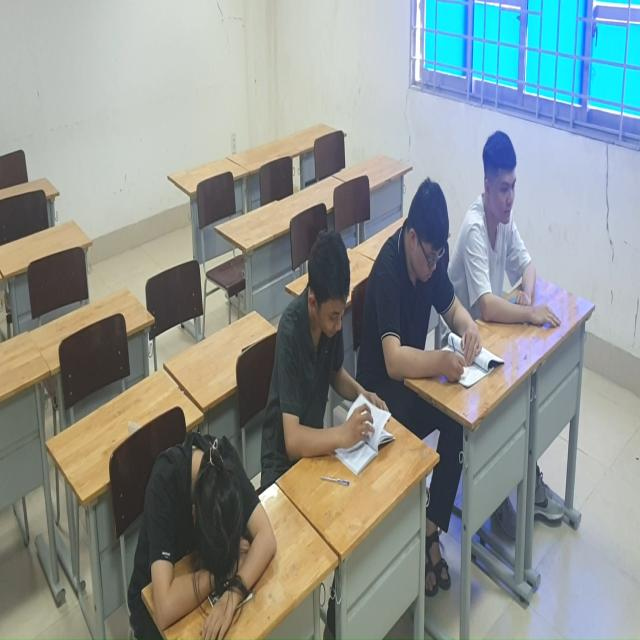read: (270, 219, 398, 470), (373, 178, 485, 425), (463, 128, 563, 338)
sleep: (124, 439, 295, 640)
